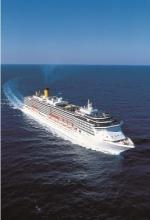youlun: (19, 89, 142, 159)
